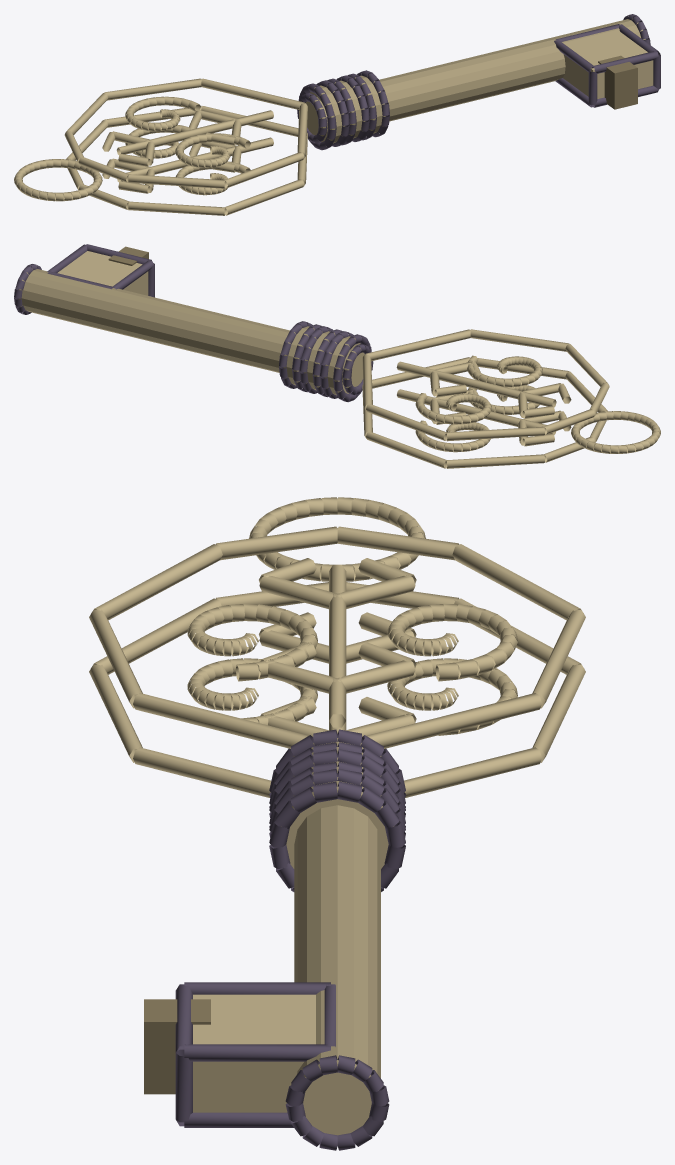
File: key.glb
3 views of the same model, one above another, from view 1: azimuth 30°, elevation 25°; view 2: azimuth 150°, elevation 25°; view 3: azimuth 270°, elevation 25° (orthographic). The views are drawn at different scales.
Visible parts, largest first — view 1: key part 0; view 2: key part 0; view 3: key part 0.
Boxes of the visible parts, <box> form: key part 0: <box>14,14,660,215</box>; key part 0: <box>14,244,660,468</box>; key part 0: <box>89,497,585,1150</box>.
Size of the model in its own units: 2.15 by 0.2023 by 0.7457.
